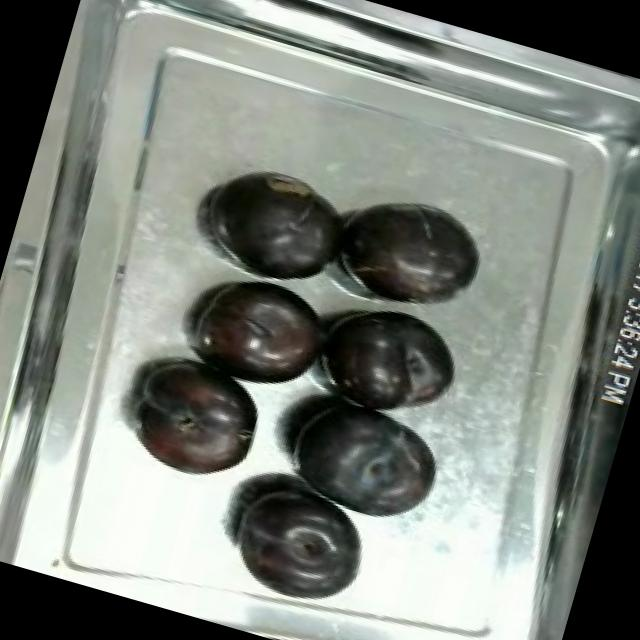Fruit: (262, 378, 460, 542), (323, 180, 498, 333), (174, 256, 345, 412), (116, 338, 280, 497), (304, 285, 476, 435), (208, 470, 377, 622), (192, 153, 354, 300)
